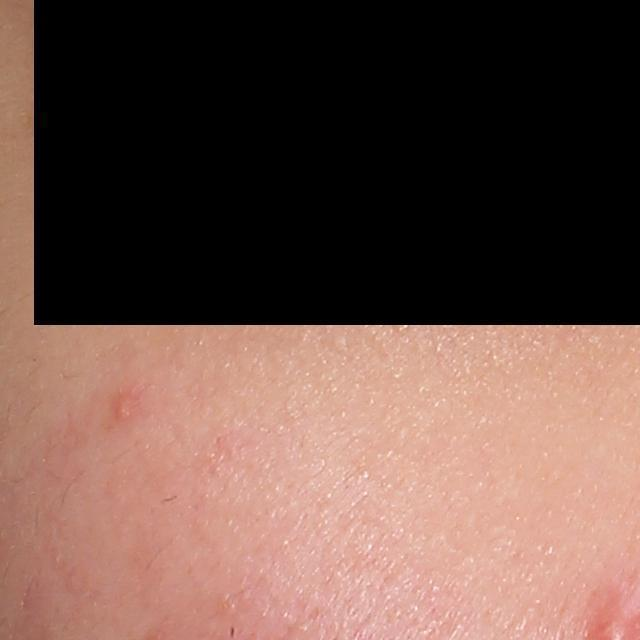papule: (110, 392, 133, 424)
